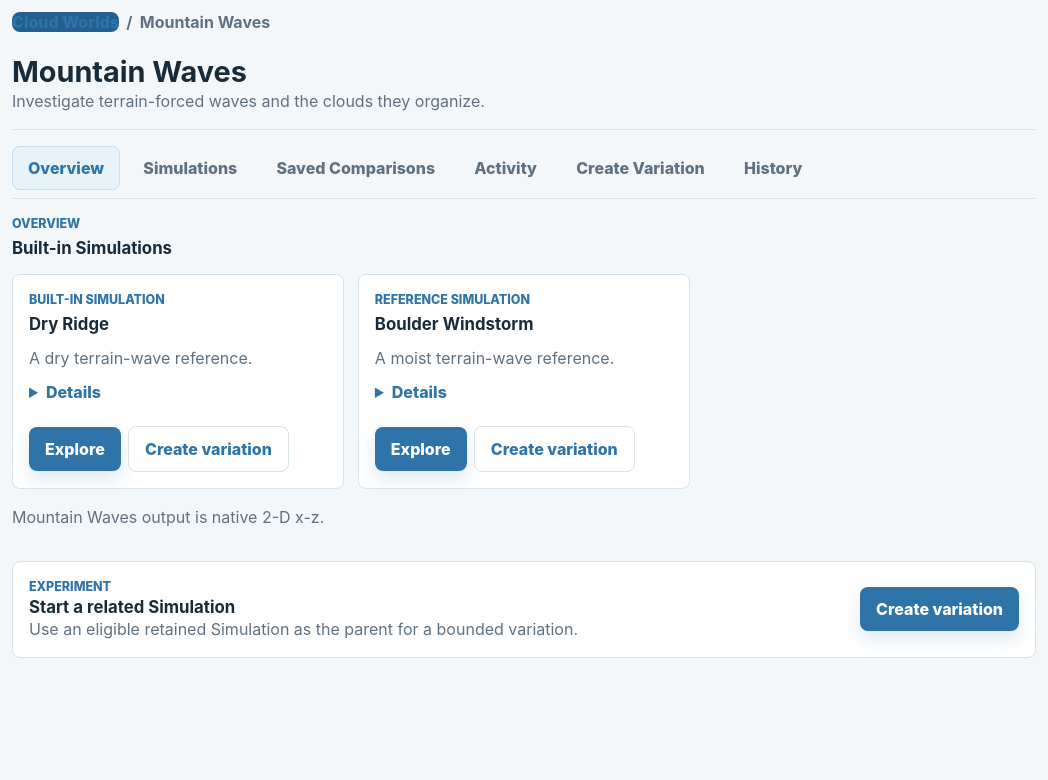
it: MountainWavesWorld › opens Create Variation on the selected parent
The image size is (1048, 780).
Expected: the heading "Boulder Windstorm" is shown, [375,314,534,334]
Click the button "Create variation" below "A moist terrain-wave reference." at coordinates (554, 449), box [474,426,635,472]
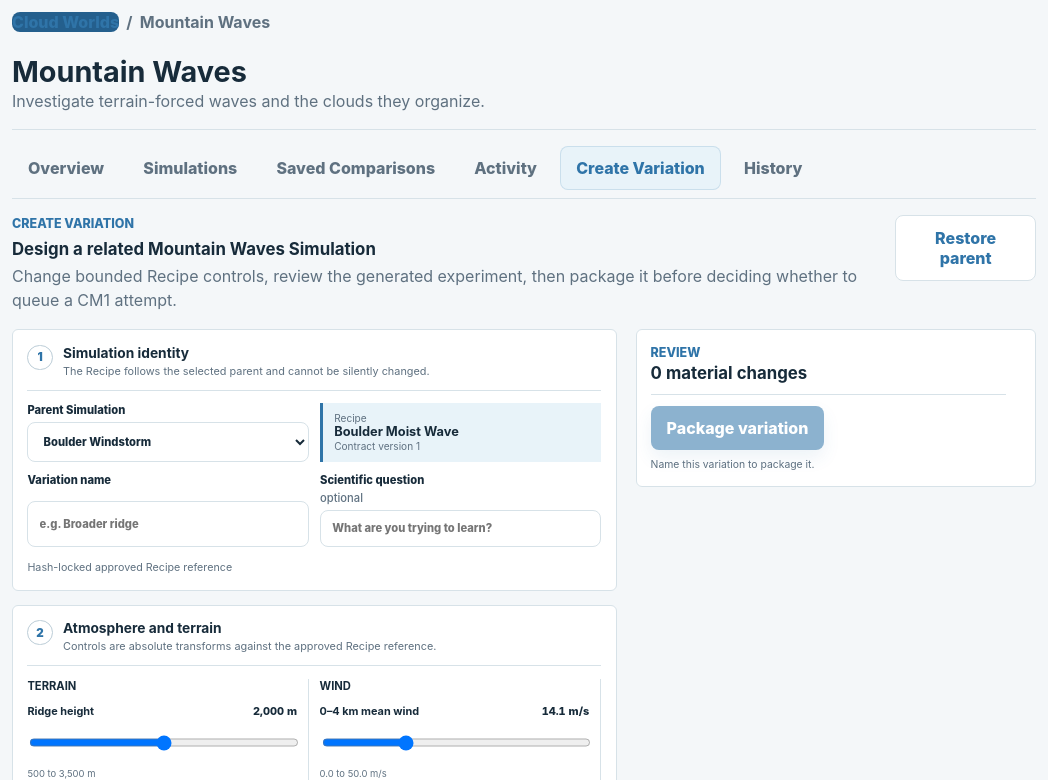
Expected: the heading "Atmosphere and terrain" is shown, [63,620,222,636]
Expected: the text "Boulder Moist Wave" is shown, [334,424,459,439]
